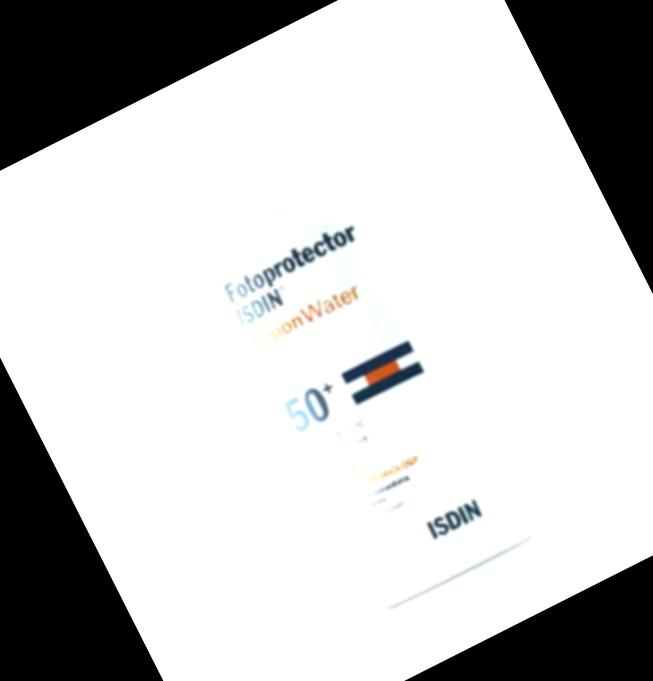cosmetic: (140, 74, 555, 623)
